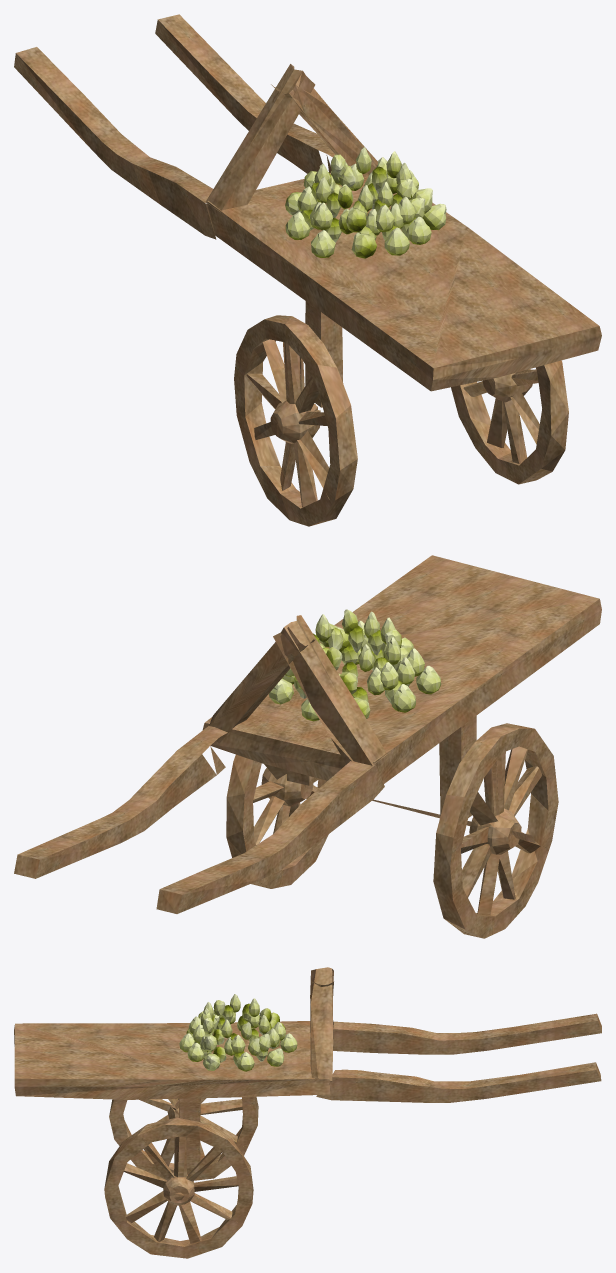
Rendered from cartold.glb.
3 renders of one model, top to bottom at view 1: azimuth 30°, elevation 25°; view 2: azimuth 150°, elevation 25°; view 3: azimuth 270°, elevation 25°, orthographic. The views are drawn at different scales.
Parts seen in each view (by area): view 1: cart, figs; view 2: cart, figs; view 3: cart, figs.
Part boxes in pixels (x1,y1,x2,y2): cart: (14, 14, 601, 526); figs: (285, 147, 446, 258); cart: (14, 555, 601, 938); figs: (269, 609, 441, 721); cart: (14, 967, 601, 1258); figs: (179, 994, 297, 1071).
Bounding box in the file's own units: 24.97 × 31.32 × 66.45.
Materials: 2 (2 with a texture image).
